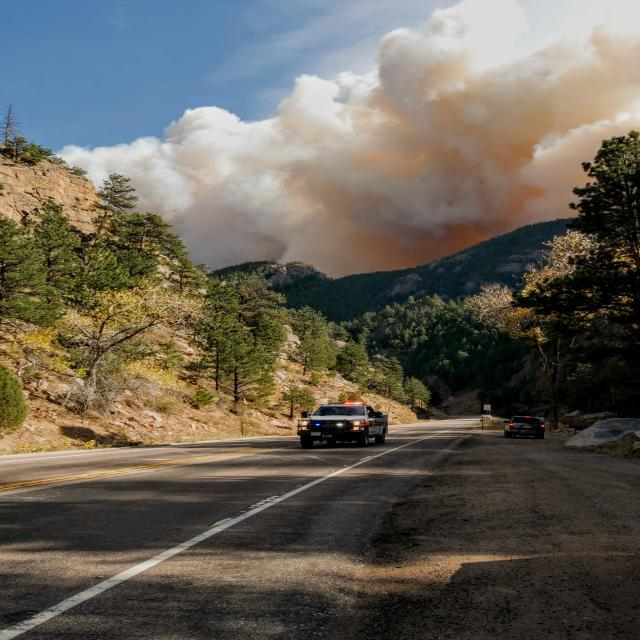Smoke: (226, 48, 544, 235)
